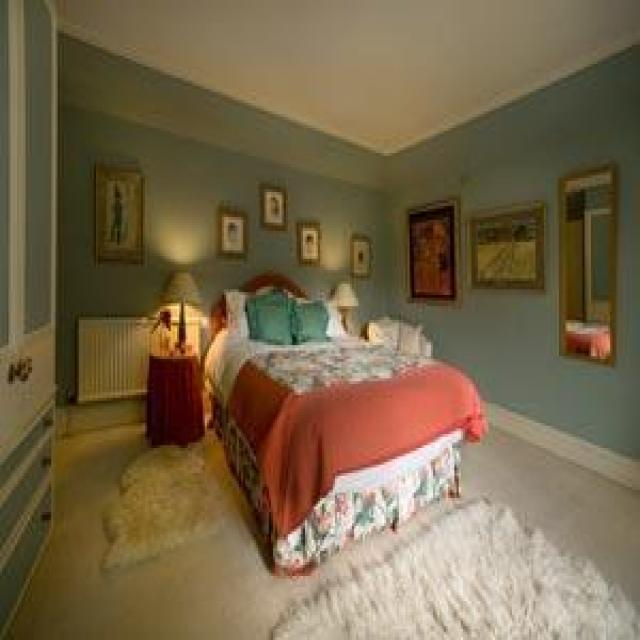bed: (200, 270, 487, 576)
carpet: (269, 493, 638, 637)
door: (0, 0, 60, 637)
lamps: (160, 270, 203, 353), (328, 281, 358, 331)
windows: (557, 162, 616, 364)
